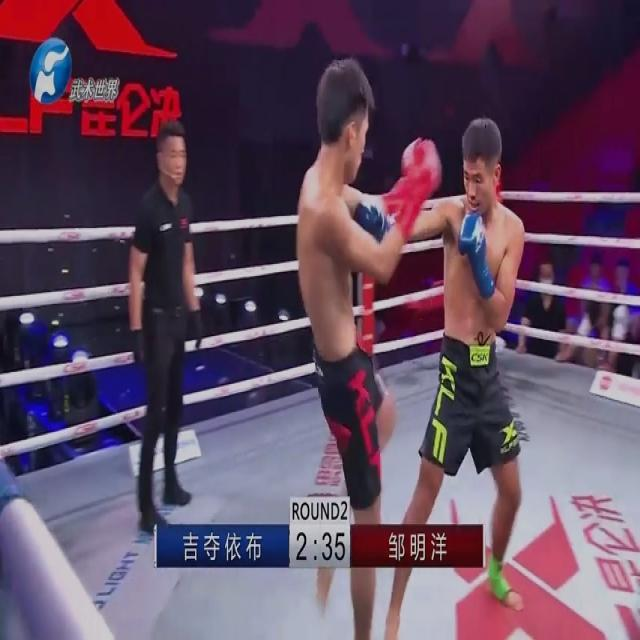fight: (296, 57, 524, 640)
non-fight: (129, 112, 206, 532)
